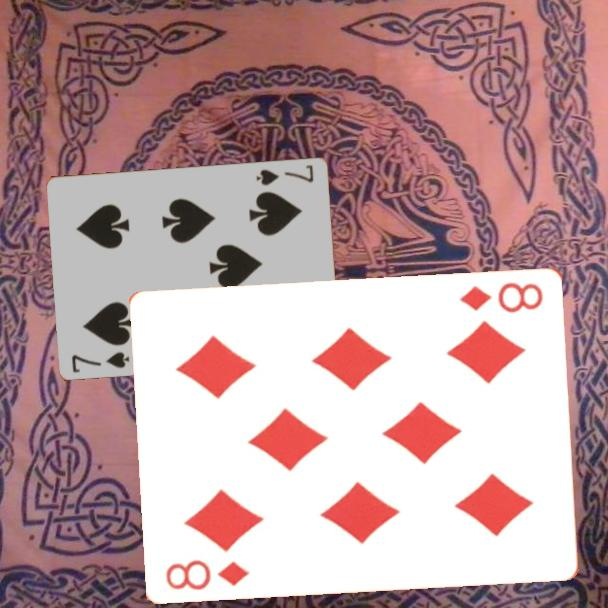d08: (456, 278, 547, 316), (163, 556, 253, 593)
s07: (253, 161, 317, 188), (69, 348, 132, 375)
